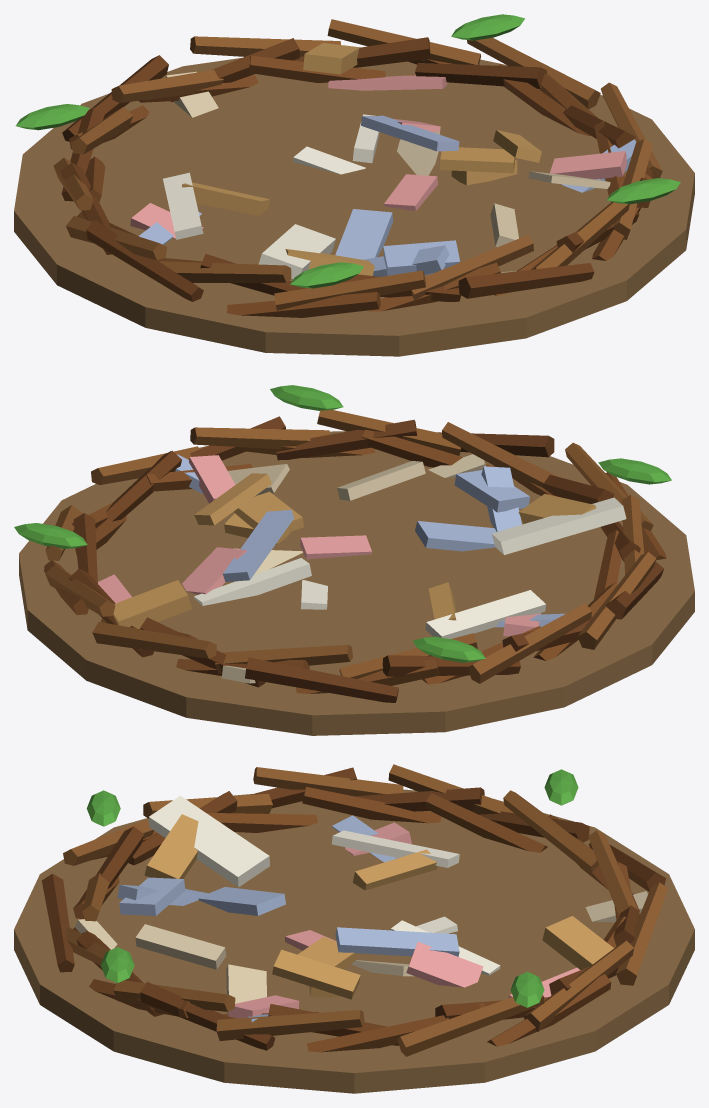
The model's file is nest.fbx.
The picture shows the model from 3 angles, top to bottom: view 1: azimuth 30°, elevation 25°; view 2: azimuth 150°, elevation 25°; view 3: azimuth 270°, elevation 25°; orthographic projection.
Parts seen in each view (by area): view 1: nest; view 2: nest; view 3: nest.
Part boxes in pixels (x1,y1,x2,y2): nest: (14,14,694,356); nest: (14,385,694,735); nest: (14,764,694,1093).
Bounding box in the file's own units: 1.2 × 0.1475 × 1.2.
